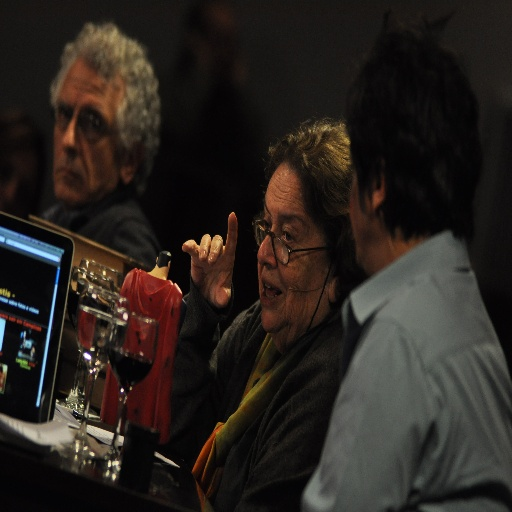hand: (179, 223, 235, 307)
